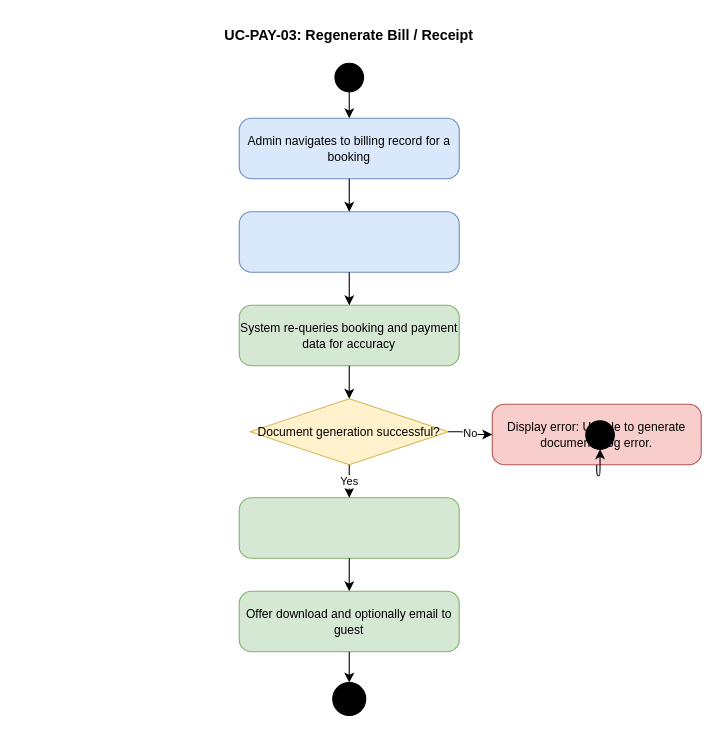
The diagram is 721 pixels wide and 735 high, and some of its shapes have lost their labels. Each missing label, with the centre of its shape:
"Admin clicks Regenerate Bill or Regenerate Receipt" belongs at (348,241).
"Generate PDF bill/receipt with current data and formatting" belongs at (348,527).
